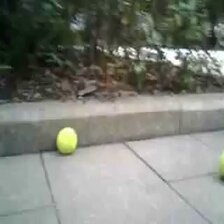tennis: (57, 127, 77, 154)
